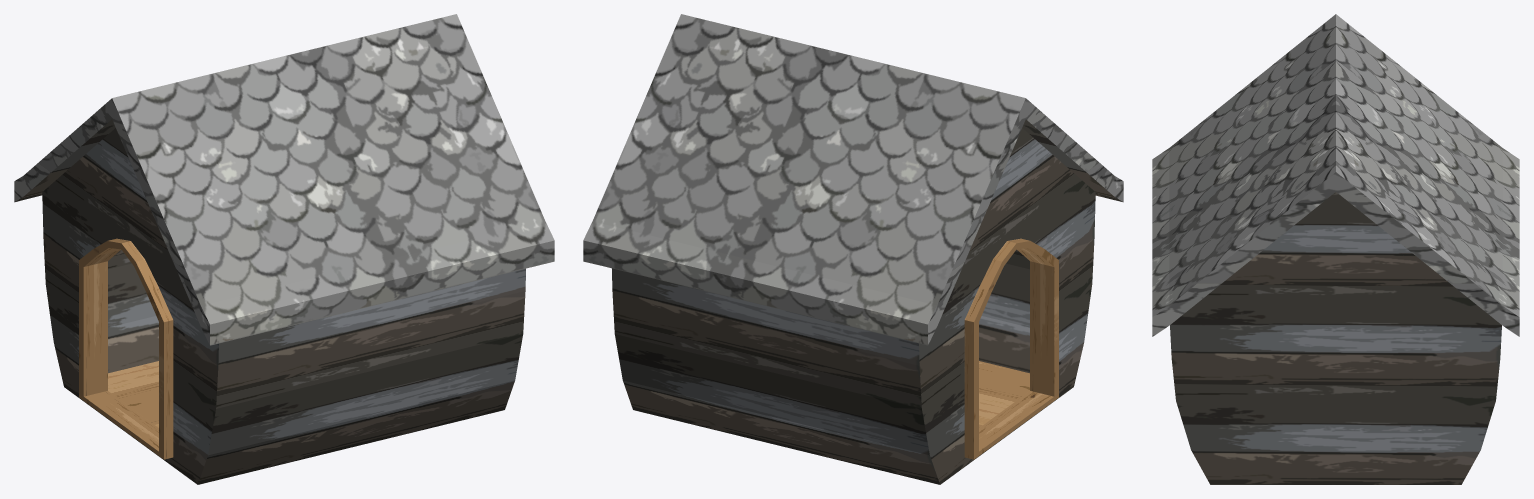
File: Dog_House_Texture.fbx
3 renders of one model, left to right at view 1: azimuth 30°, elevation 25°; view 2: azimuth 150°, elevation 25°; view 3: azimuth 270°, elevation 25°, orthographic. The views are drawn at different scales.
Parts seen in each view (by area): view 1: dog house; view 2: dog house; view 3: dog house.
Boxes of the visible parts, x1,y1,x2,y2 form: dog house: (14,14,554,484); dog house: (583,14,1123,484); dog house: (1152,14,1519,484).
Bounding box in the file's own units: 224 × 213 × 221.
3 materials, 3 textured.
